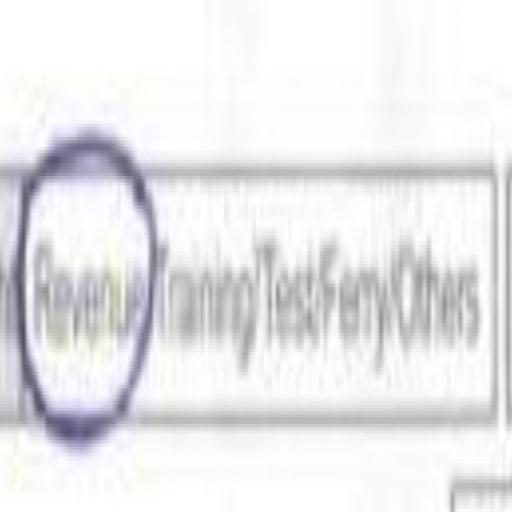check: (20, 105, 151, 491)
